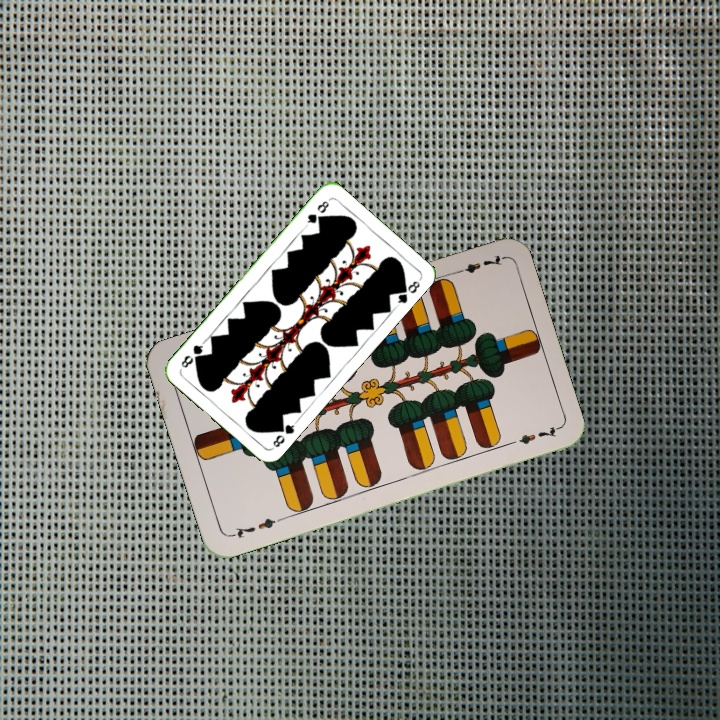E7: (227, 513, 284, 541), (447, 251, 505, 278)
G8: (269, 417, 299, 451), (301, 197, 332, 229)
